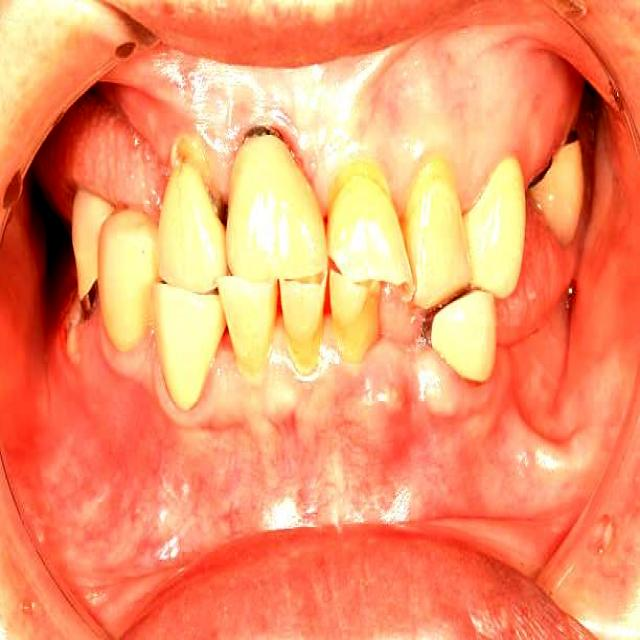gingivitis: (110, 20, 584, 213), (111, 340, 511, 445)
